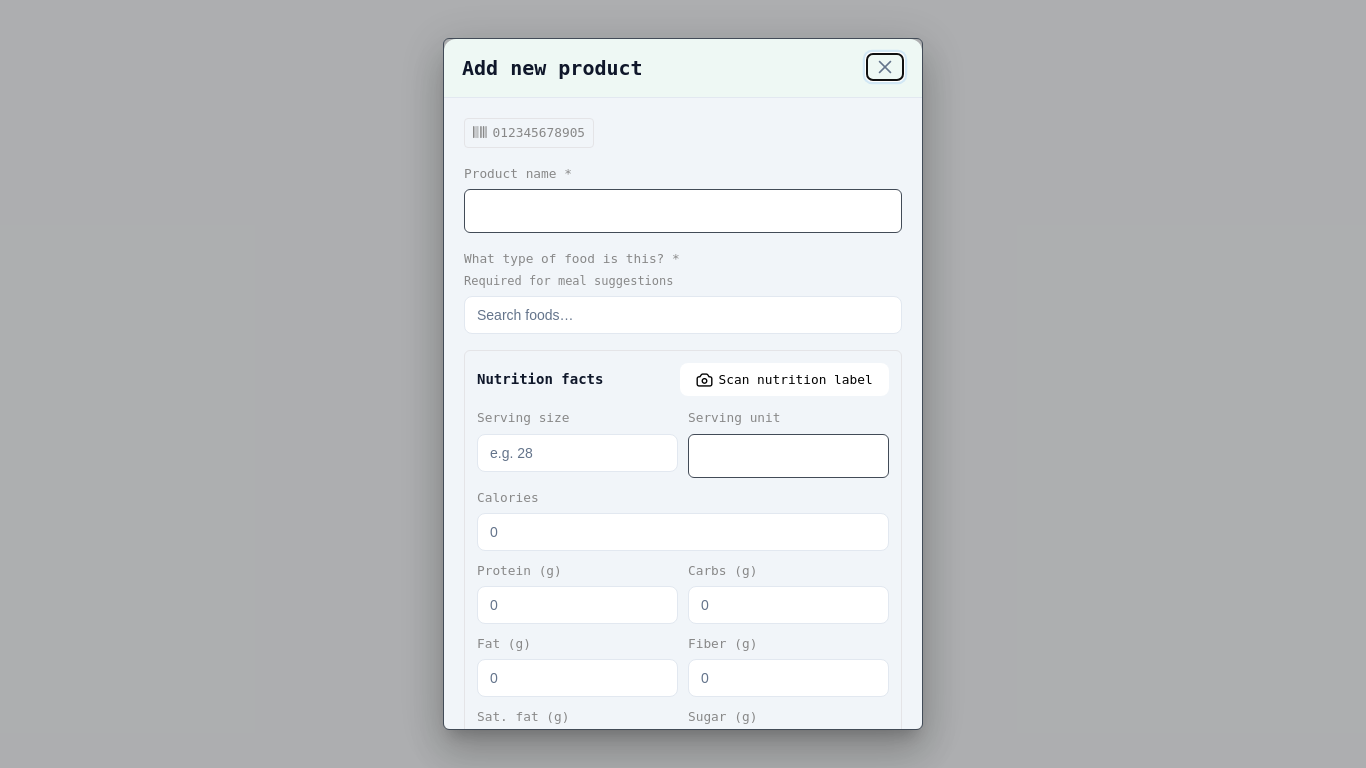
Scenario: BarcodeCreationModal › disables Add product when food is not selected
Type "Quaker Oats" into the field labelled "Product name *".
click(683, 211); type("Quaker Oats")  # box [464, 189, 902, 233]
(page scrolled)
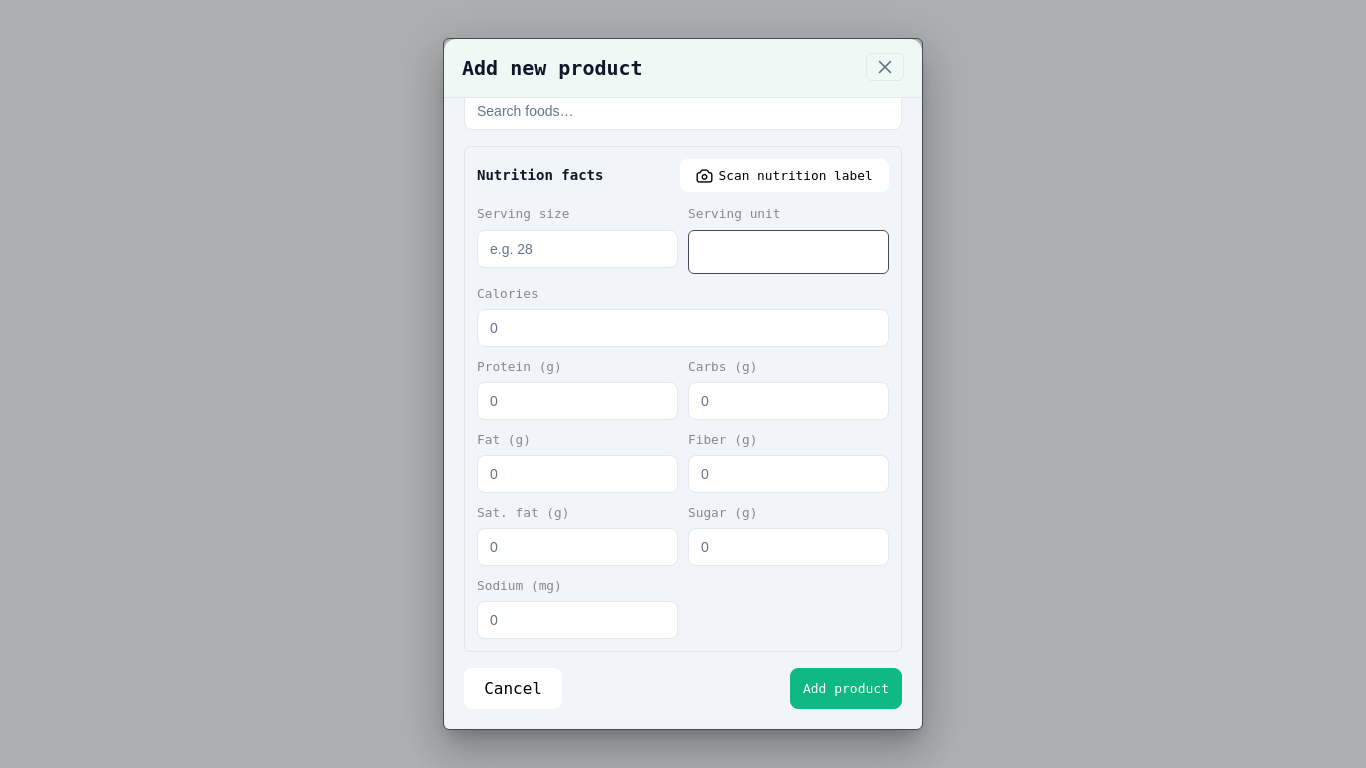
Check: the button "Add product" is disabled, box [790, 668, 902, 709]
